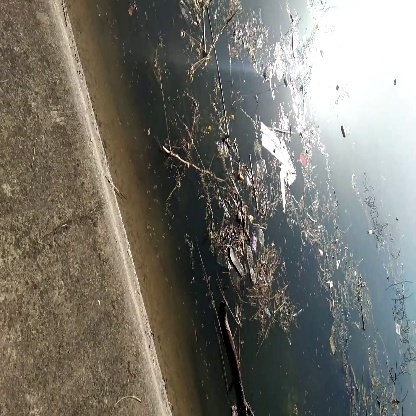plastic-bag: (256, 121, 304, 205)
